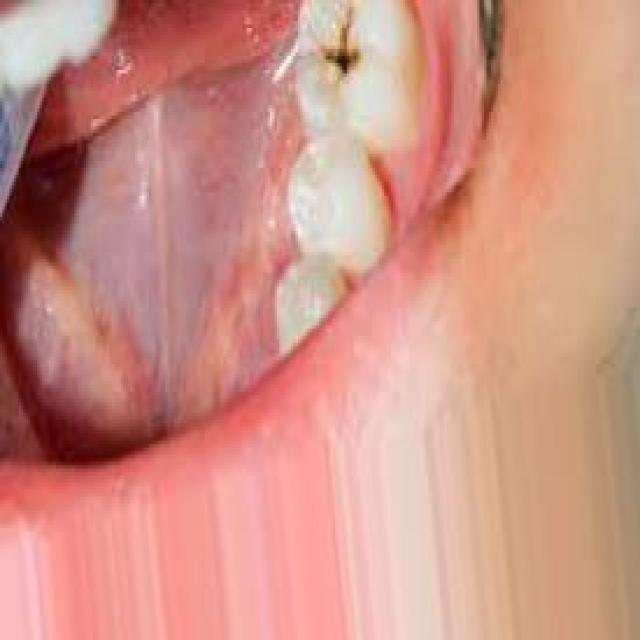caries: (301, 0, 384, 105)
